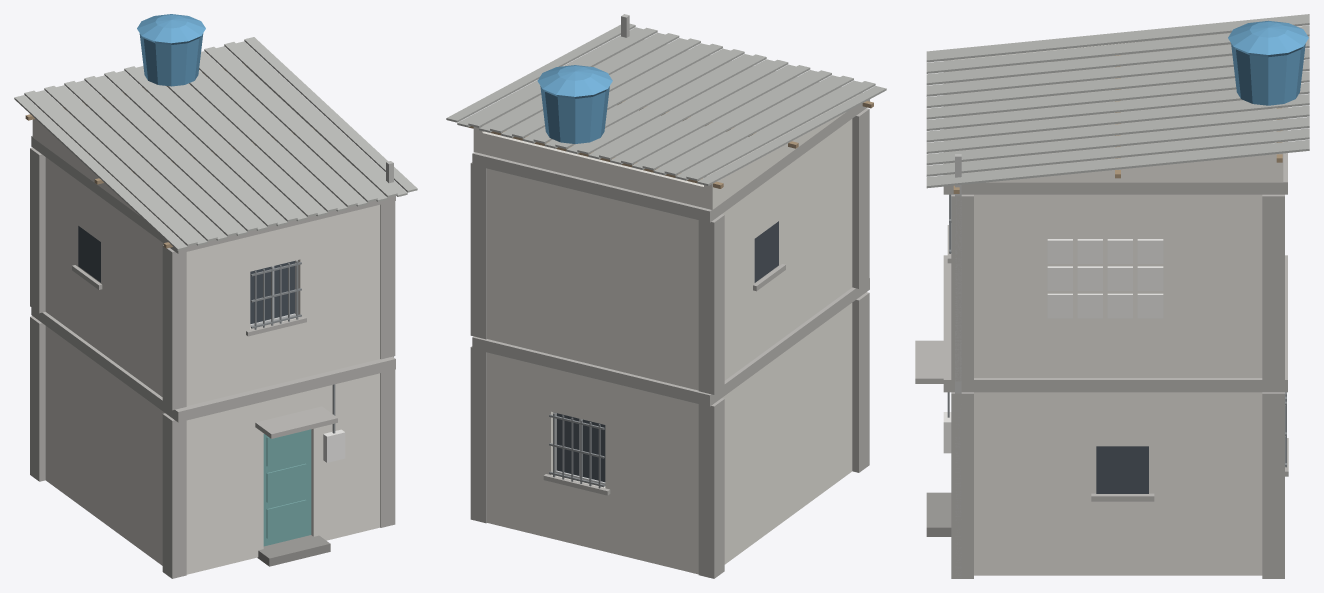
3 views of the same model, side by side, from view 1: azimuth 30°, elevation 25°; view 2: azimuth 150°, elevation 25°; view 3: azimuth 270°, elevation 25° (orthographic). The views are drawn at different scales.
Visible parts, largest first — view 1: fv_h12; view 2: fv_h12; view 3: fv_h12.
Boxes of the visible parts, x1,y1,x2,y2 form: fv_h12: (14, 14, 417, 578); fv_h12: (446, 14, 886, 578); fv_h12: (915, 14, 1309, 578).
Bounding box in the file's own units: 4.32 × 7.37 × 5.25.
